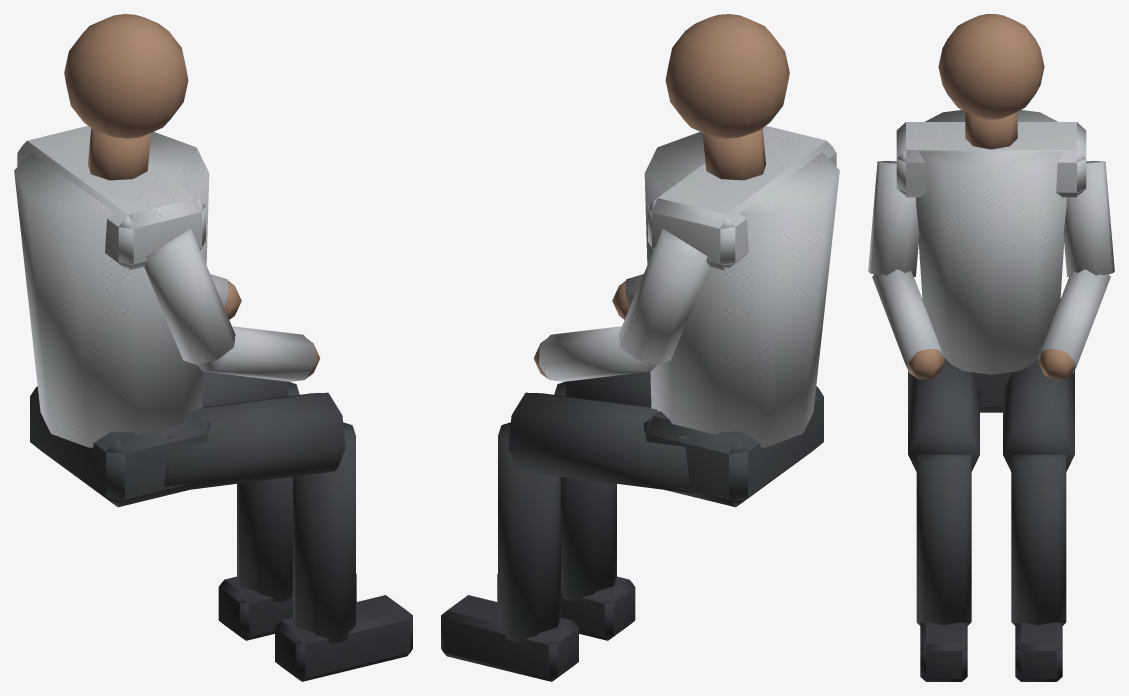
Rendered from crowd-seated-0_high.glb.
3 views of the same model, side by side, from view 1: azimuth 30°, elevation 25°; view 2: azimuth 150°, elevation 25°; view 3: azimuth 270°, elevation 25° (orthographic). The views are drawn at different scales.
Visible parts, largest first — view 1: clothing, dark-steel, skin, rubber; view 2: clothing, dark-steel, skin, rubber; view 3: clothing, dark-steel, skin, rubber.
Part boxes in pixels (bbox=[...]): clothing: bbox=[14, 126, 314, 447]; dark-steel: bbox=[30, 371, 355, 642]; skin: bbox=[64, 14, 320, 378]; rubber: bbox=[218, 574, 412, 681]; clothing: bbox=[539, 126, 839, 447]; dark-steel: bbox=[498, 371, 823, 642]; skin: bbox=[533, 14, 789, 378]; rubber: bbox=[441, 574, 635, 681]; clothing: bbox=[868, 110, 1114, 374]; dark-steel: bbox=[908, 358, 1074, 625]; skin: bbox=[908, 14, 1074, 379]; rubber: bbox=[920, 622, 1062, 681].
Bounding box in the file's own units: 0.7148 × 1.31 × 0.5209.
Materials: 4 (3 with a texture image).
